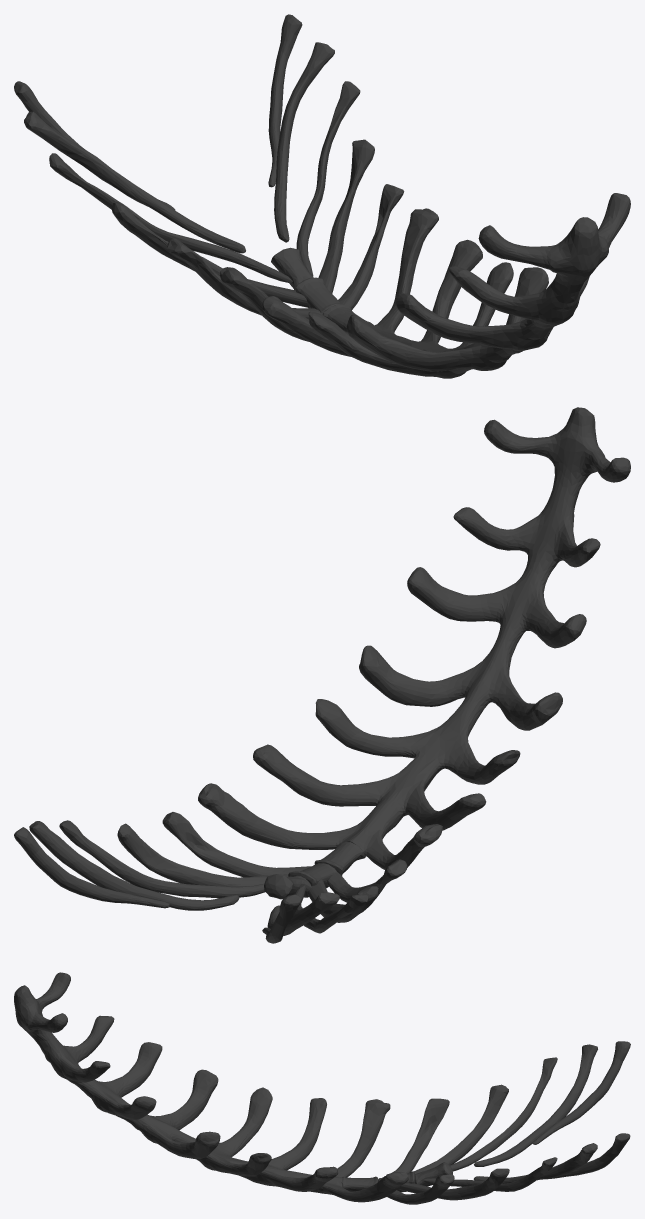
The model's file is Skeleton_15_LP.glb.
3 views of the same model, one above another, from view 1: azimuth 30°, elevation 25°; view 2: azimuth 150°, elevation 25°; view 3: azimuth 270°, elevation 25° (orthographic). The views are drawn at different scales.
Parts seen in each view (by area): view 1: Skeleton_15_LP; view 2: Skeleton_15_LP; view 3: Skeleton_15_LP.
Part boxes in pixels (bbox=[...]): Skeleton_15_LP: bbox=[14, 14, 630, 378]; Skeleton_15_LP: bbox=[14, 407, 630, 943]; Skeleton_15_LP: bbox=[14, 972, 630, 1204].
Size of the model in its own units: 38.9 by 35.46 by 95.54.
1 material, 1 textured.
